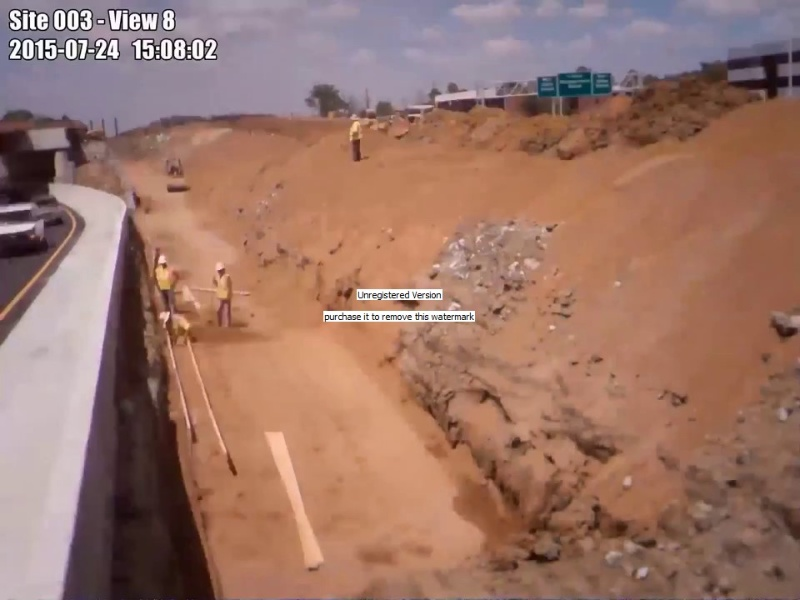hardhat: (159, 311, 170, 322), (214, 263, 226, 271), (350, 113, 359, 122), (158, 256, 168, 263)
person: (157, 311, 198, 345), (212, 262, 233, 326), (154, 255, 177, 313), (349, 113, 362, 163)
pipe: (183, 335, 238, 477), (167, 332, 197, 443)
roller: (164, 155, 189, 193)
wood: (262, 429, 328, 571)
